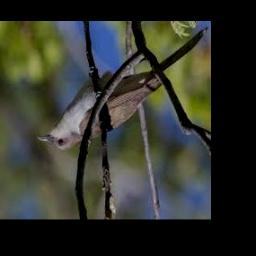Cuckoo: (38, 28, 207, 150)
